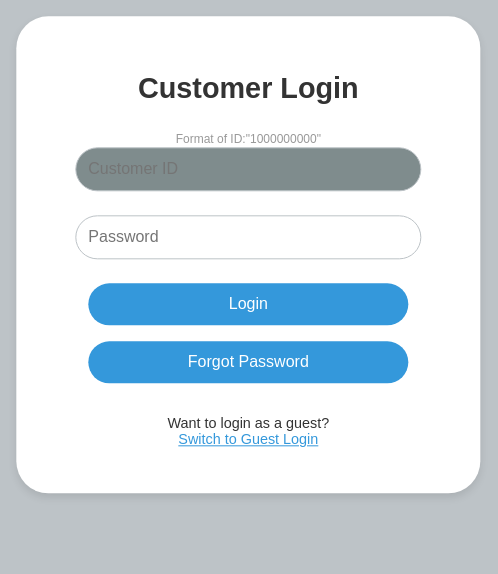
it: CustomerLogin › handles login failure
Type "12345" into the field with placeholder "Customer ID". click: (248, 169)
box: top-left (75, 147), bottom-right (421, 191)
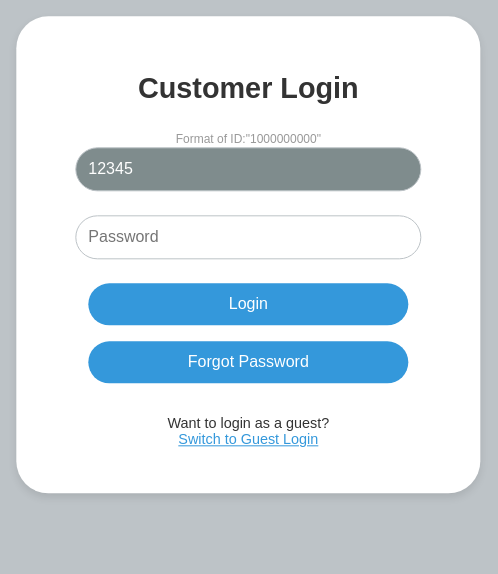
Type "password" into the password field with placeholder "Password". click: (248, 237)
box: top-left (75, 215), bottom-right (421, 259)
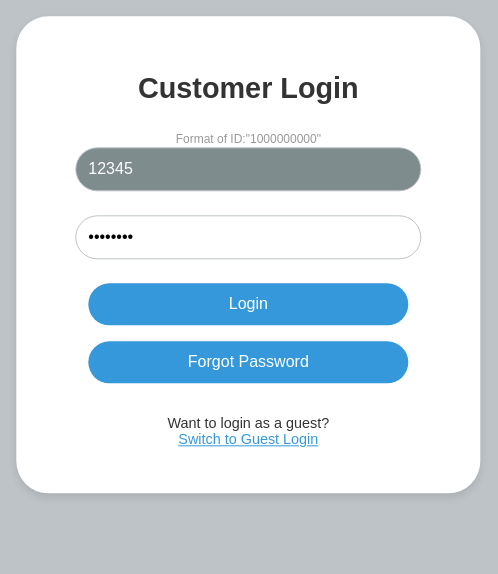
Click the button with test id "login-button" showing "Login". click: (248, 304)
box: top-left (88, 283), bottom-right (408, 325)
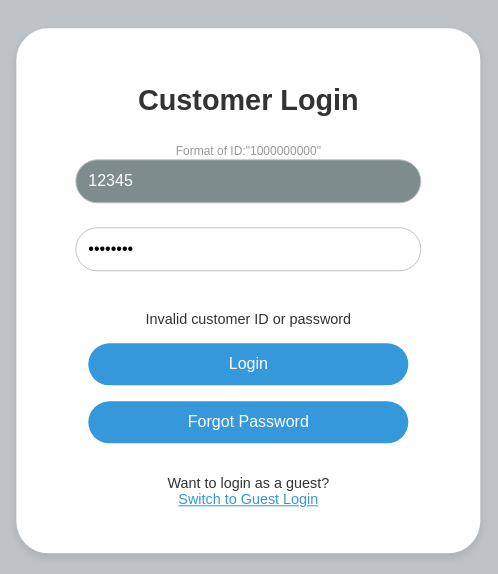
Now the text "Invalid customer ID or password" is shown, box top-left (146, 311), bottom-right (351, 327)
